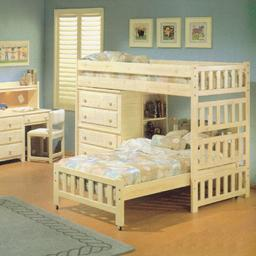Armario: (78, 87, 120, 151)
Cama: (51, 112, 239, 215)
Ventana: (58, 13, 99, 111)
